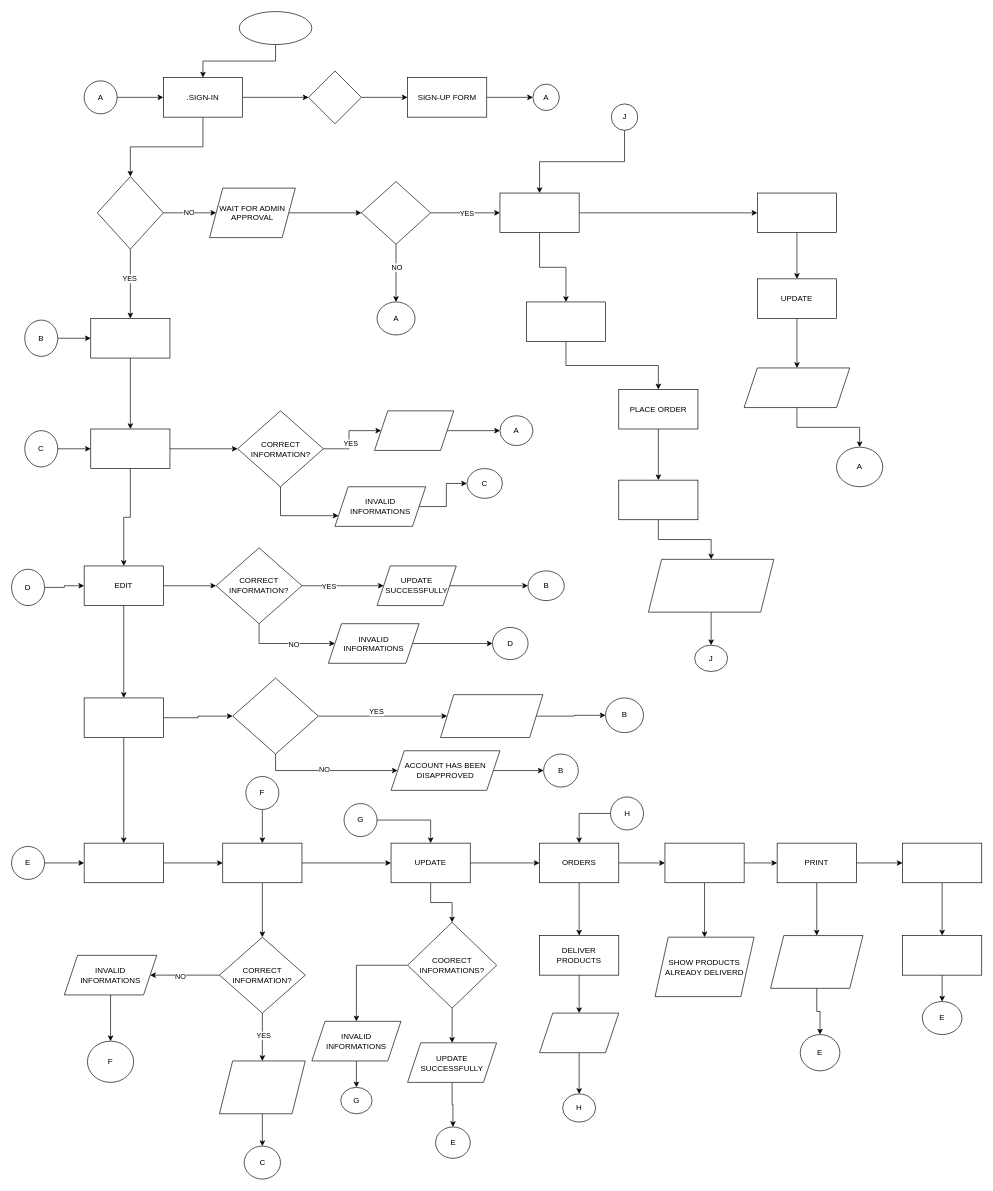
This 993x1191 diagram has some shape labels left out. Here are the shapes that lost their labels. From the top down, the centre of each, then its label:
At point 275,28: "START".
At point 334,97: "no account?".
At point 130,212: "check account if it's admin?".
At point 396,212: "ACCEPT?".
At point 539,212: "USERS DASHBOARD".
At point 797,212: "MY ACCOUNT".
At point 130,338: "ADMIN DASHBOARD".
At point 566,321: "SELECT PRODUCT".
At point 796,387: "ACCOUNT UPDATED SUCCESSFULLY".
At point 130,448: "CREATE ACCOUNT".
At point 414,430: "CREATE SUCCESFULLY".
At point 658,499: "INSERT INFORMATION".
At point 711,585: "PRODUCT CREATED SUCCESSFULLY".
At point 123,717: "PENDING".
At point 275,715: "APPROVE?".
At point 491,716: "ACCOUNT APPROVED SUCCESSFULLY".
At point 123,862: "MANAGE PRODUCTS".
At point 262,862: "ADD".
At point 704,862: "DELIVERED".
At point 942,862: "PENDING ORDERS".
At point 816,961: "PRINT PRODUCT INFORMATIONS".
At point 942,955: "APPROVE PRODUCTS".
At point 579,1032: "DELIVER SUCESSFULLY".
At point 262,1087: "ADD SUCCESSFULLY".
